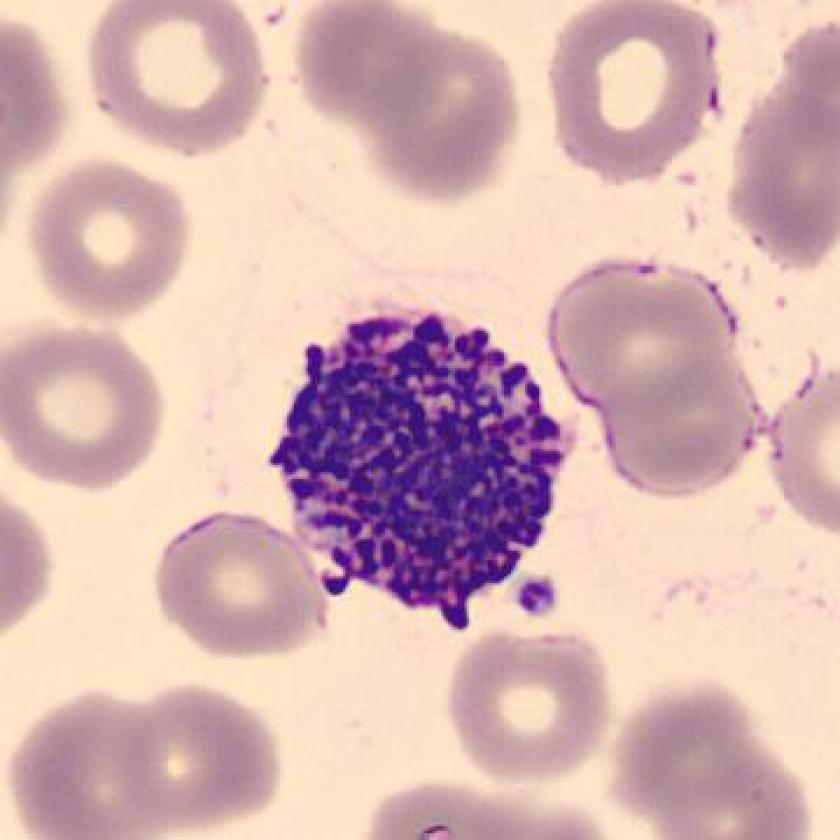basophil: (269, 304, 568, 626)
